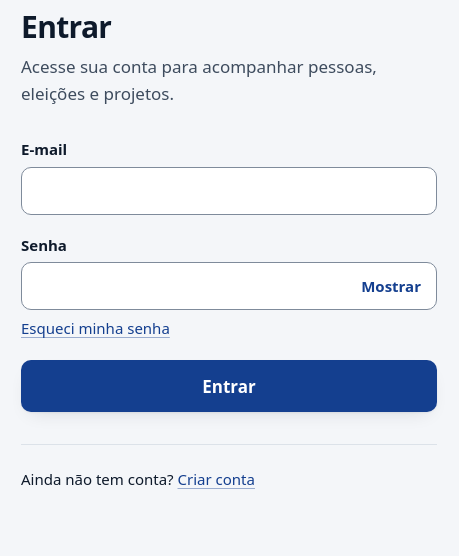
Test case: LoginPage › mostra o erro de credenciais devolvido pela API
Type "eleitora@example.com" into the field labelled "E-mail" at (229, 191), box [21,167,437,215]
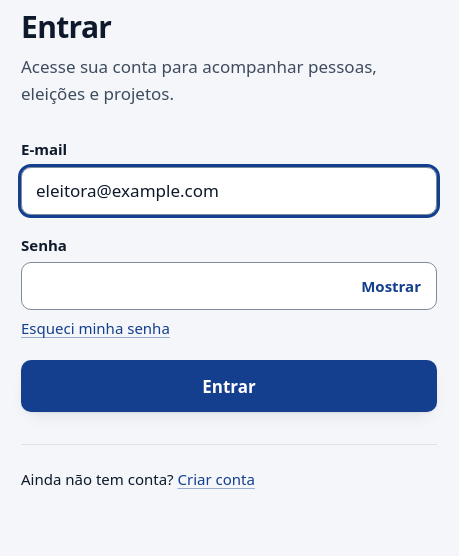
Type "errada" into the password field labelled "Senha" at (229, 286), box [21,262,437,310]
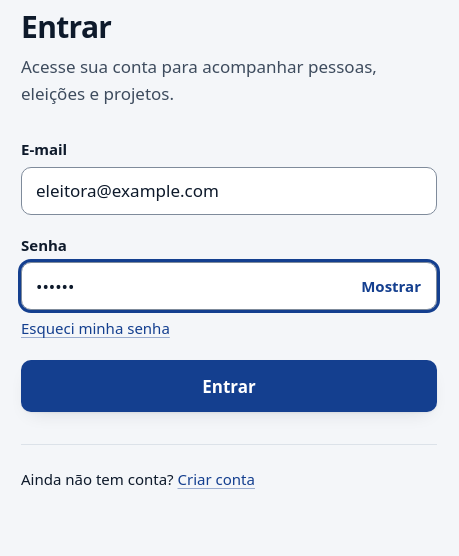
Click the button "Entrar" at (229, 386), box [21,360,437,412]
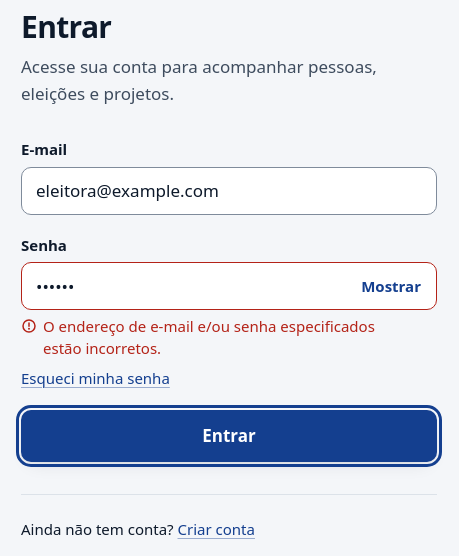
Check: the text "estão incorretos" is shown, box [43,316,375,358]
